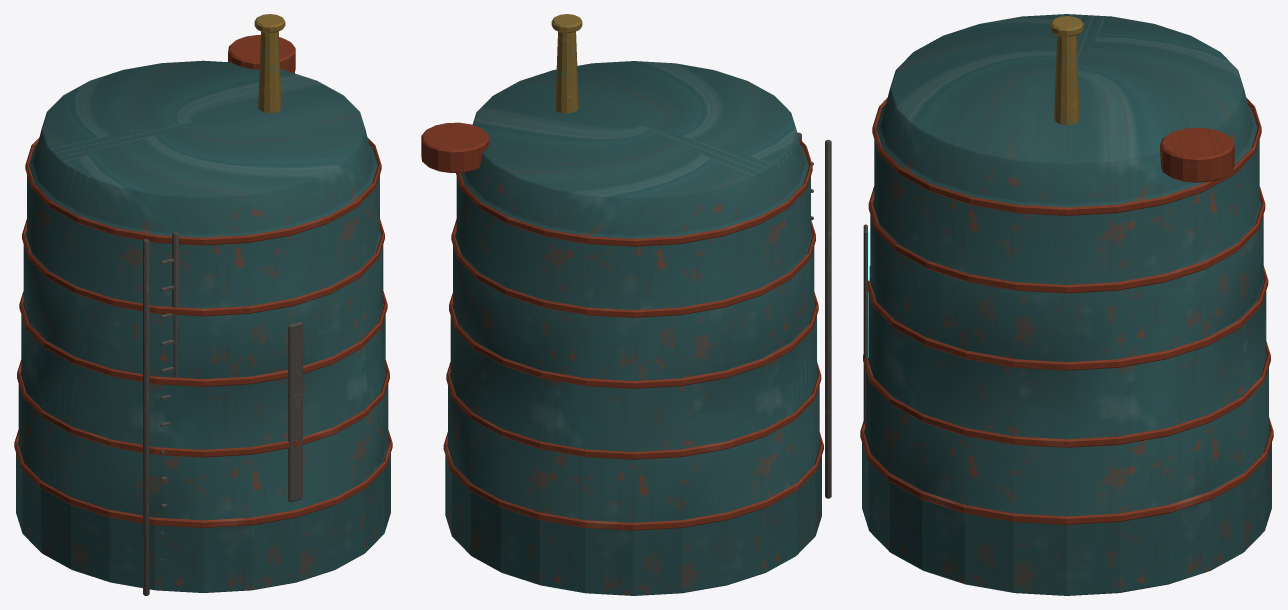
Rendered from WK_HERO_EVAPORATOR_A_01.glb.
3 renders of one model, left to right at view 1: azimuth 30°, elevation 25°; view 2: azimuth 150°, elevation 25°; view 3: azimuth 270°, elevation 25°, orthographic. The views are drawn at different scales.
Visible parts, largest first — view 1: WK_HERO_EVAPORATOR_A_01; view 2: WK_HERO_EVAPORATOR_A_01; view 3: WK_HERO_EVAPORATOR_A_01.
Part boxes in pixels (x1,y1,x2,y2): WK_HERO_EVAPORATOR_A_01: [14, 14, 392, 595]; WK_HERO_EVAPORATOR_A_01: [421, 14, 831, 595]; WK_HERO_EVAPORATOR_A_01: [860, 14, 1273, 595].
Size of the model in its own units: 3.11 by 4.34 by 3.11.
5 materials, 4 textured.
